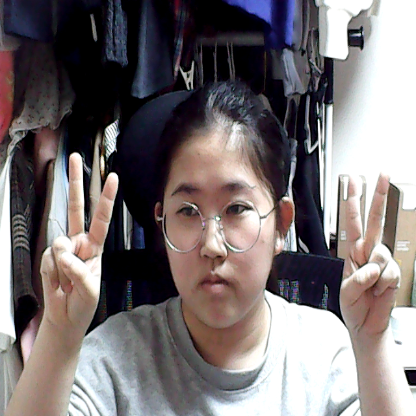Finger_2: (32, 144, 133, 341), (333, 164, 408, 354)
